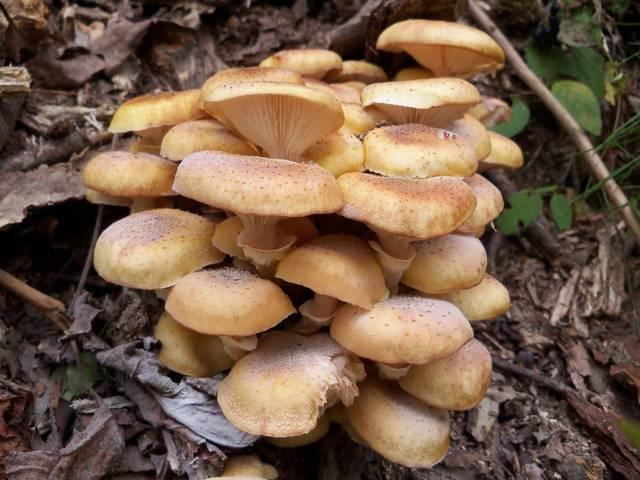Edible Mushroom: (81, 16, 523, 471)
